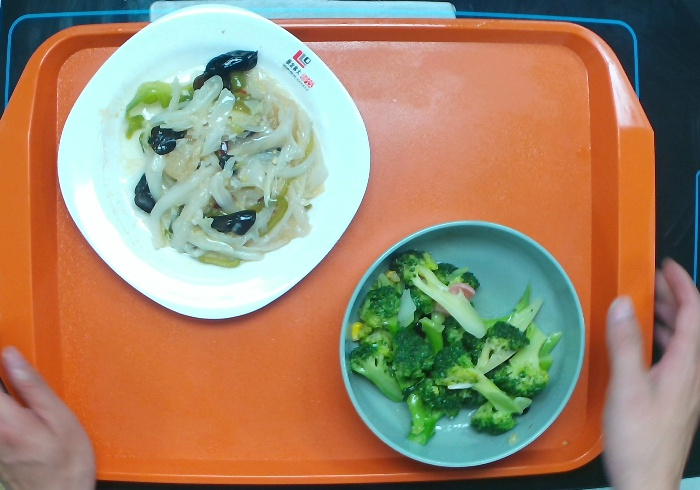ZNLD-Qing_Hua_Yuan_Wan: (341, 218, 587, 469)
ZNLD-Yuan_Jiao_Pan: (52, 1, 373, 322)
